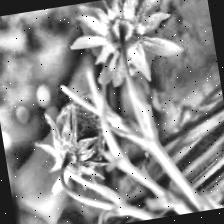Gray Mold: (43, 90, 117, 188)
